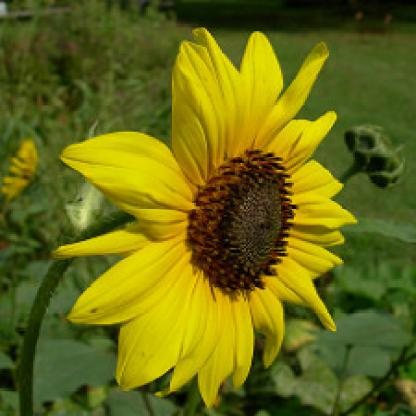SUN FLOWER: (53, 26, 397, 409)
